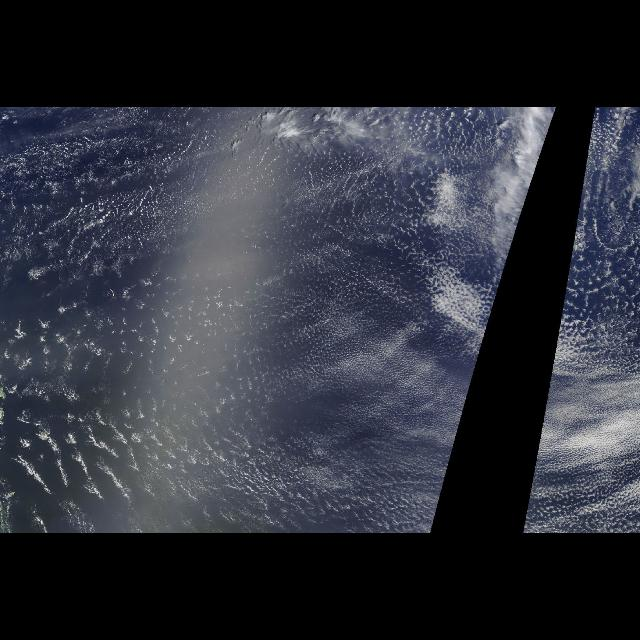Sugar: (11, 113, 492, 500)
